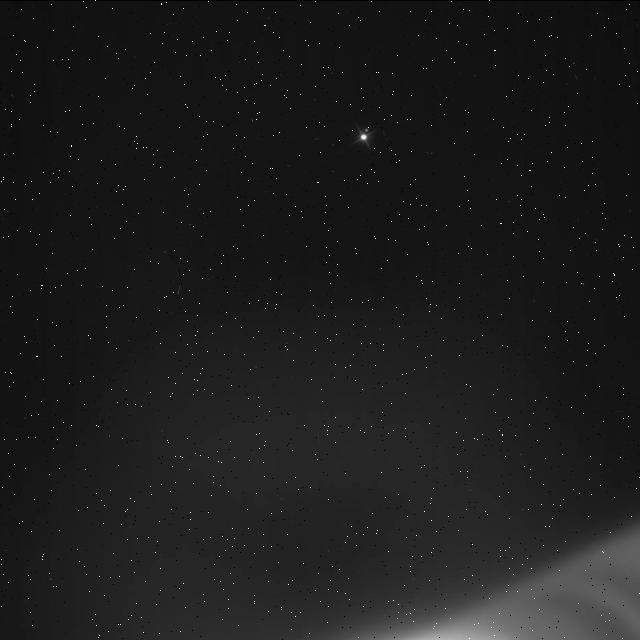Saturn: (291, 507, 640, 640)
